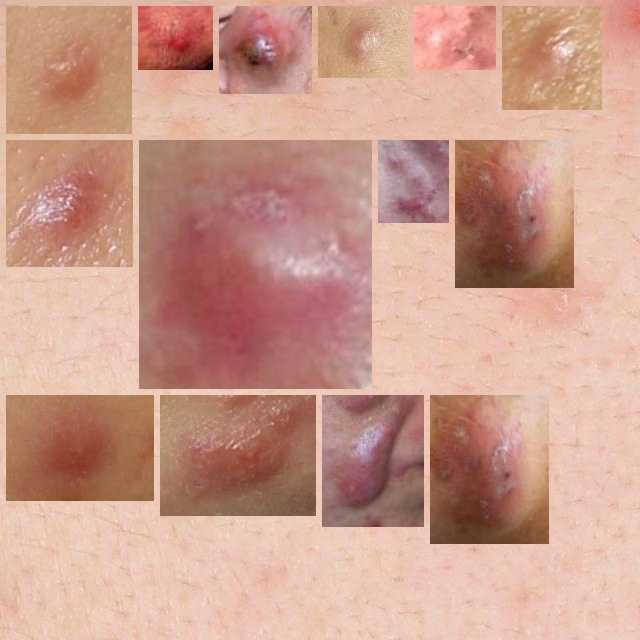nodule: (147, 148, 364, 381), (168, 403, 308, 508), (438, 403, 541, 536), (463, 148, 566, 280), (14, 148, 125, 259), (14, 14, 124, 126), (14, 403, 146, 493), (330, 403, 416, 519), (510, 14, 594, 102), (227, 14, 304, 86), (326, 14, 400, 70), (386, 148, 441, 215), (422, 14, 488, 62), (146, 14, 205, 62)
